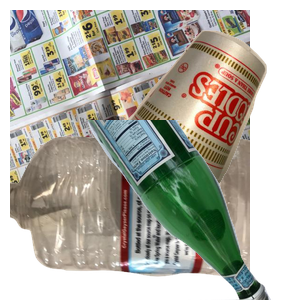glass: (75, 120, 300, 300)
paper: (10, 10, 250, 190)
plastic: (10, 134, 250, 300)
trash: (119, 28, 300, 207)
